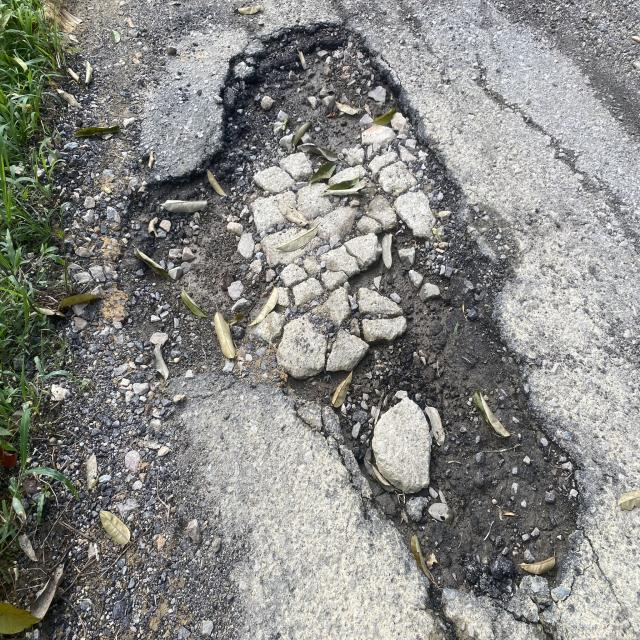pothole: (102, 14, 591, 602)
